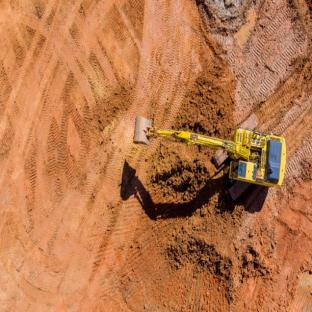ExcavationMachinery: (122, 106, 304, 192)
